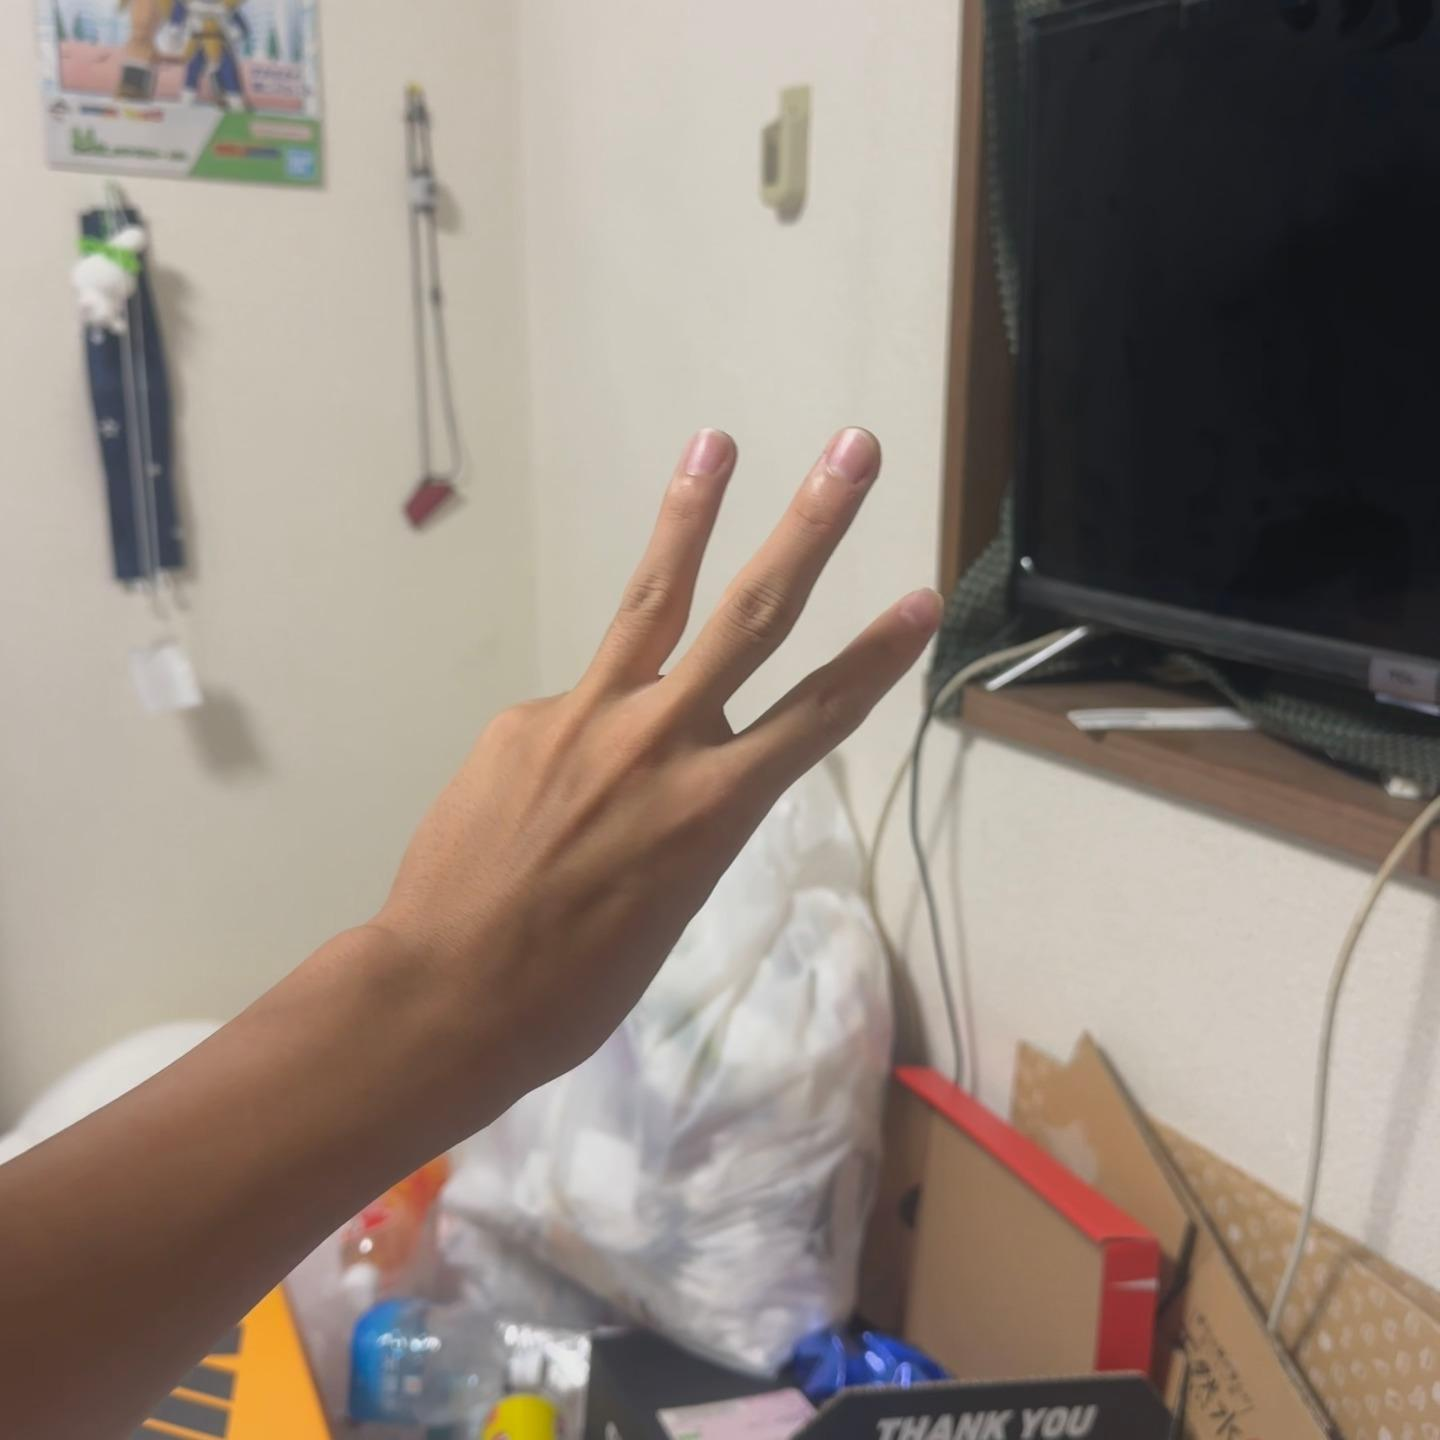without_gloves: (340, 363, 959, 1141)
